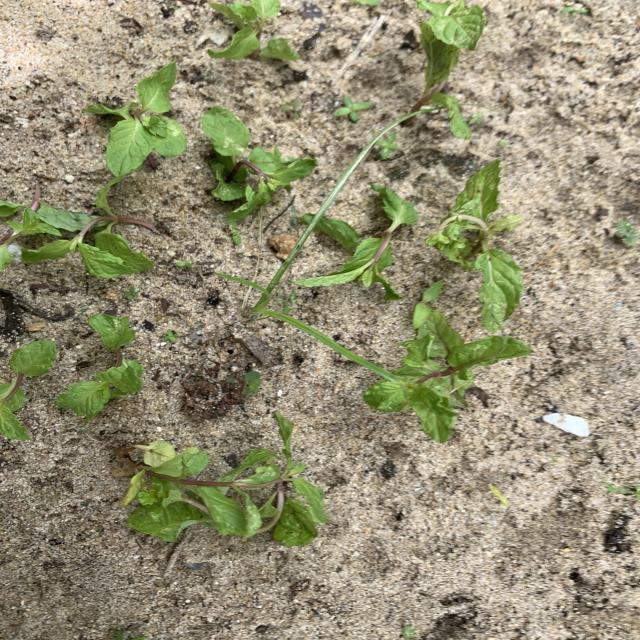crop: (120, 415, 326, 544), (364, 306, 531, 441), (428, 161, 522, 329), (0, 177, 152, 277), (203, 107, 315, 229), (294, 186, 413, 299), (86, 63, 185, 181), (58, 315, 142, 421), (416, 3, 480, 137), (209, 1, 298, 60), (1, 340, 54, 439)
weed: (216, 120, 396, 376), (335, 97, 371, 120), (224, 371, 260, 392), (615, 221, 638, 244), (378, 133, 397, 159), (281, 101, 299, 119), (490, 486, 508, 504), (562, 6, 587, 15), (230, 227, 241, 245), (165, 330, 178, 342), (124, 288, 138, 299)
